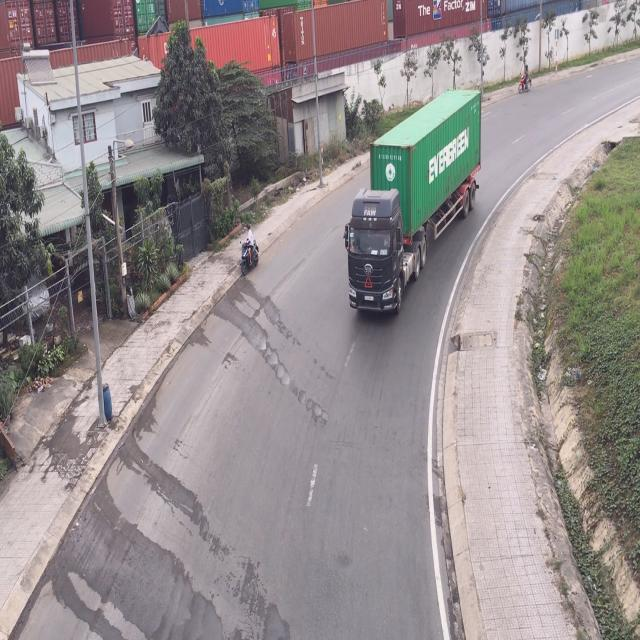motorbike: (240, 228, 260, 278), (519, 55, 533, 97)
truck: (345, 87, 481, 319)
